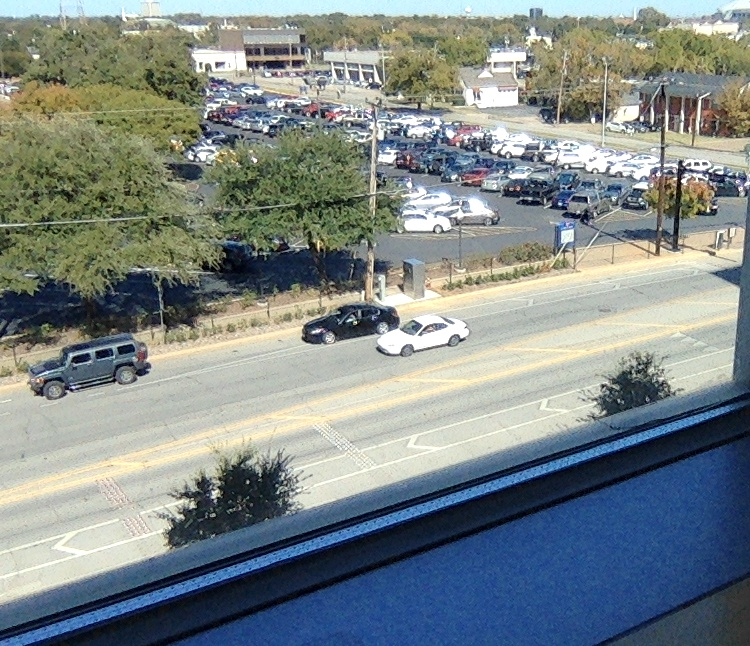car: (300, 300, 450, 346)
